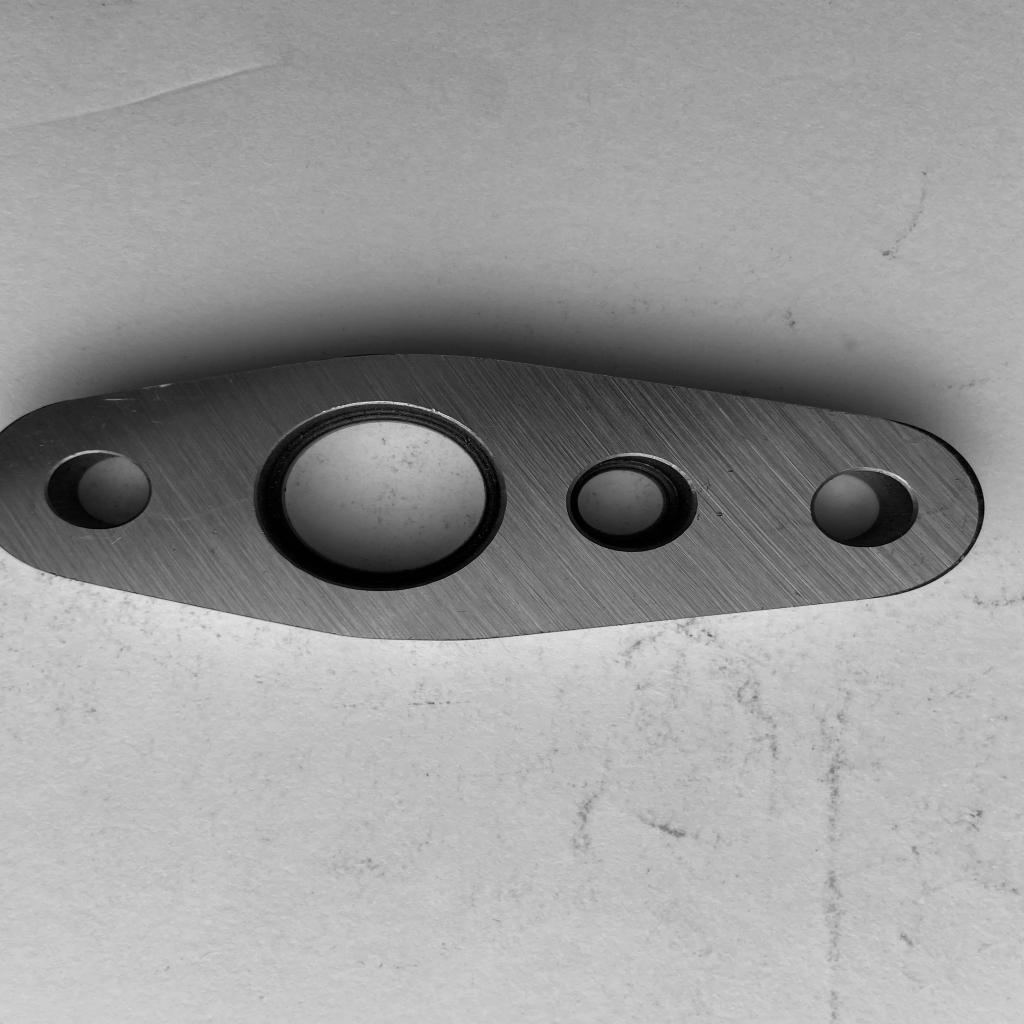chap: (101, 396, 138, 404), (109, 533, 125, 549), (712, 510, 728, 519)
